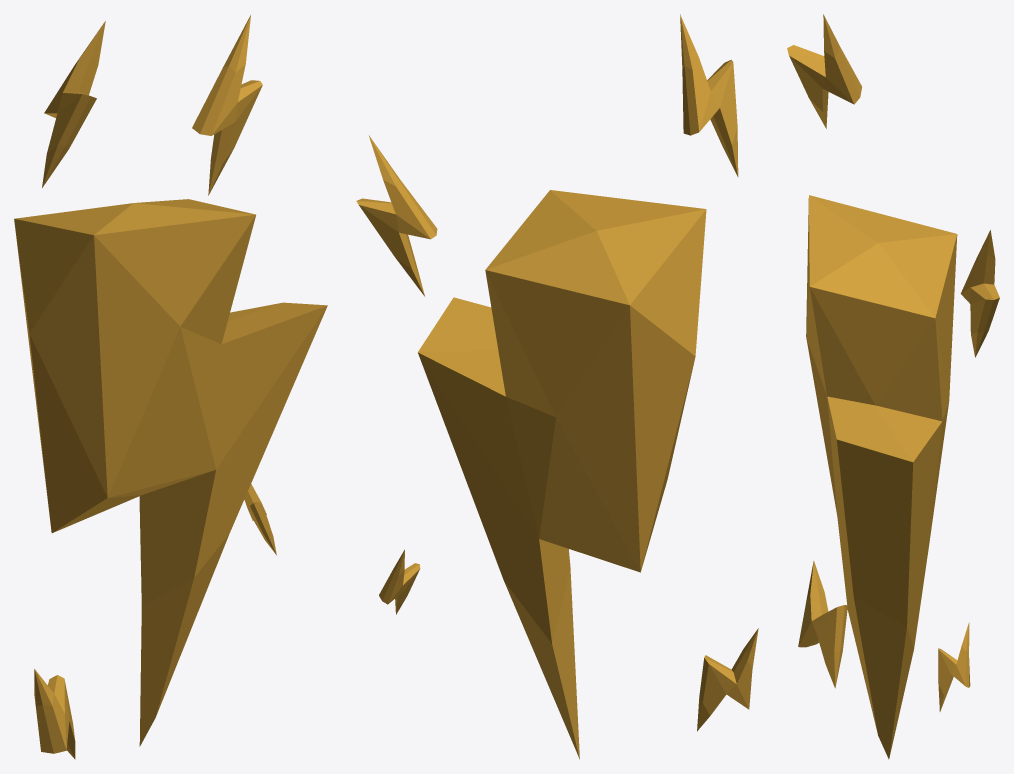
The model's file is zap (1).fbx.
3 views of the same model, side by side, from view 1: azimuth 30°, elevation 25°; view 2: azimuth 150°, elevation 25°; view 3: azimuth 270°, elevation 25° (orthographic). The views are drawn at different scales.
Parts seen in each view (by area): view 1: zap; view 2: zap; view 3: zap.
Part boxes in pixels (<box>): zap: <box>14,15,327,759</box>; zap: <box>356,14,758,759</box>; zap: <box>787,14,999,759</box>.
Bounding box in the file's own units: 0.5929 × 1.35 × 0.3645.
